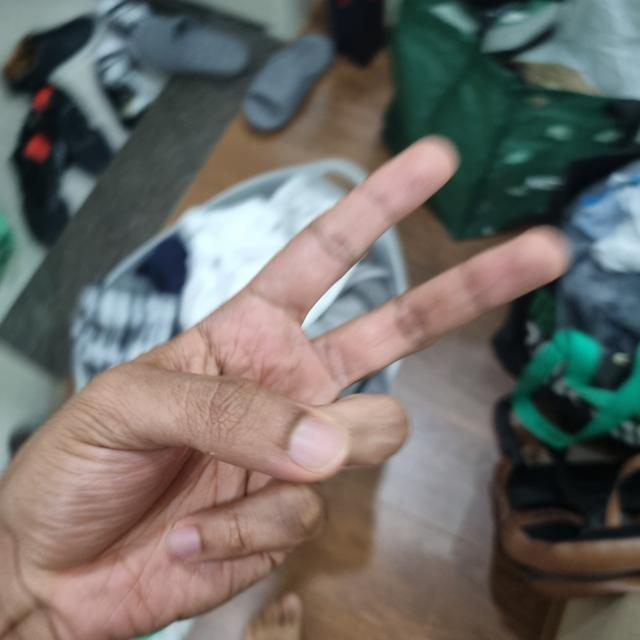Scissors: (1, 138, 569, 639)
